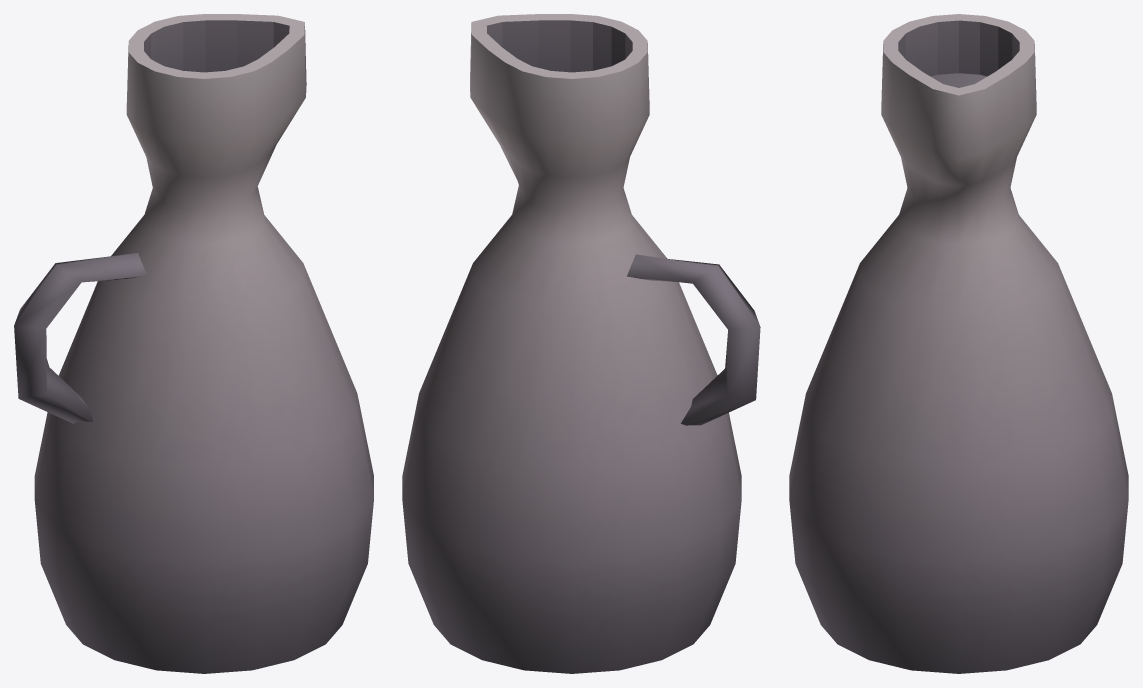
The model's file is M_carafe.FBX.
The picture shows the model from 3 angles, left to right: view 1: azimuth 30°, elevation 25°; view 2: azimuth 150°, elevation 25°; view 3: azimuth 270°, elevation 25°; orthographic projection.
Parts seen in each view (by area): view 1: Cylinder004; view 2: Cylinder004; view 3: Cylinder004.
Part boxes in pixels (bbox=[...]): Cylinder004: bbox=[14, 14, 373, 673]; Cylinder004: bbox=[402, 14, 760, 673]; Cylinder004: bbox=[789, 14, 1128, 673].
Bounding box in the file's own units: 25.66 × 22.26 × 41.15.
